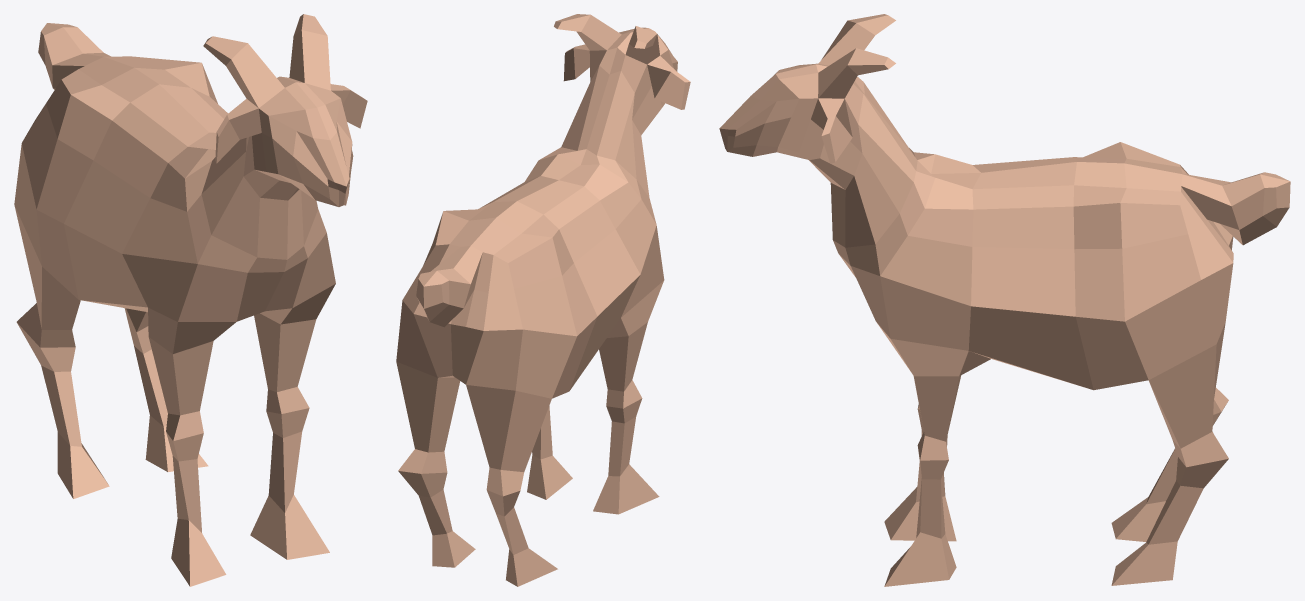
File: goat.fbx
3 renders of one model, left to right at view 1: azimuth 30°, elevation 25°; view 2: azimuth 150°, elevation 25°; view 3: azimuth 270°, elevation 25°, orthographic. The views are drawn at different scales.
Visible parts, largest first — view 1: Goat; view 2: Goat; view 3: Goat.
Part boxes in pixels (x1,y1,x2,y2): Goat: (14,14,367,586); Goat: (396,14,690,586); Goat: (719,14,1290,586).
Bounding box in the file's own units: 70.29 × 189 × 187.
